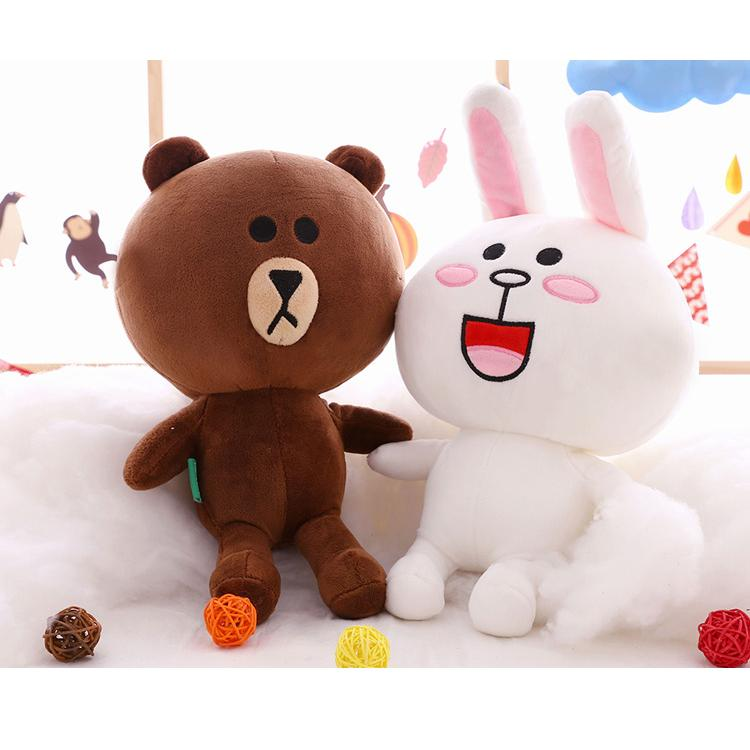line_brown: (108, 138, 414, 403)
